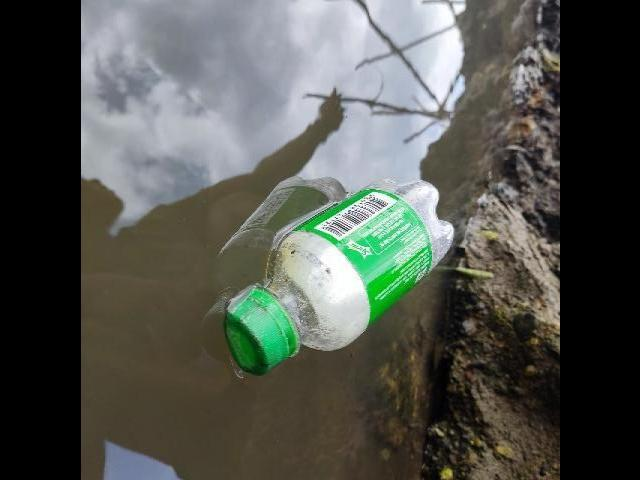Bottle: (211, 159, 458, 391)
